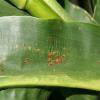Corn rust leaf: (0, 13, 99, 93)
